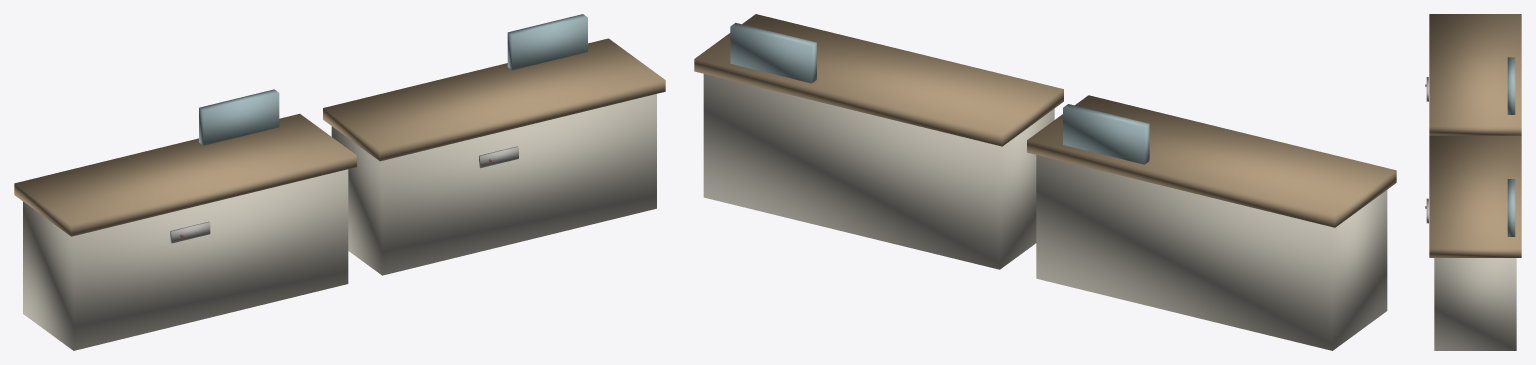
Rendered from post_office_counter__cluster.glb.
The picture shows the model from 3 angles, left to right: view 1: azimuth 30°, elevation 25°; view 2: azimuth 150°, elevation 25°; view 3: azimuth 270°, elevation 25°; orthographic projection. The views are drawn at different scales.
Parts seen in each view (by area): view 1: world; view 2: world; view 3: world.
Boxes of the visible parts, x1=… form: world: x1=14, y1=14, x2=665, y2=350; world: x1=694, y1=14, x2=1396, y2=350; world: x1=1425, y1=14, x2=1521, y2=350.
Size of the model in its own units: 4.33 by 1.14 by 0.751.
